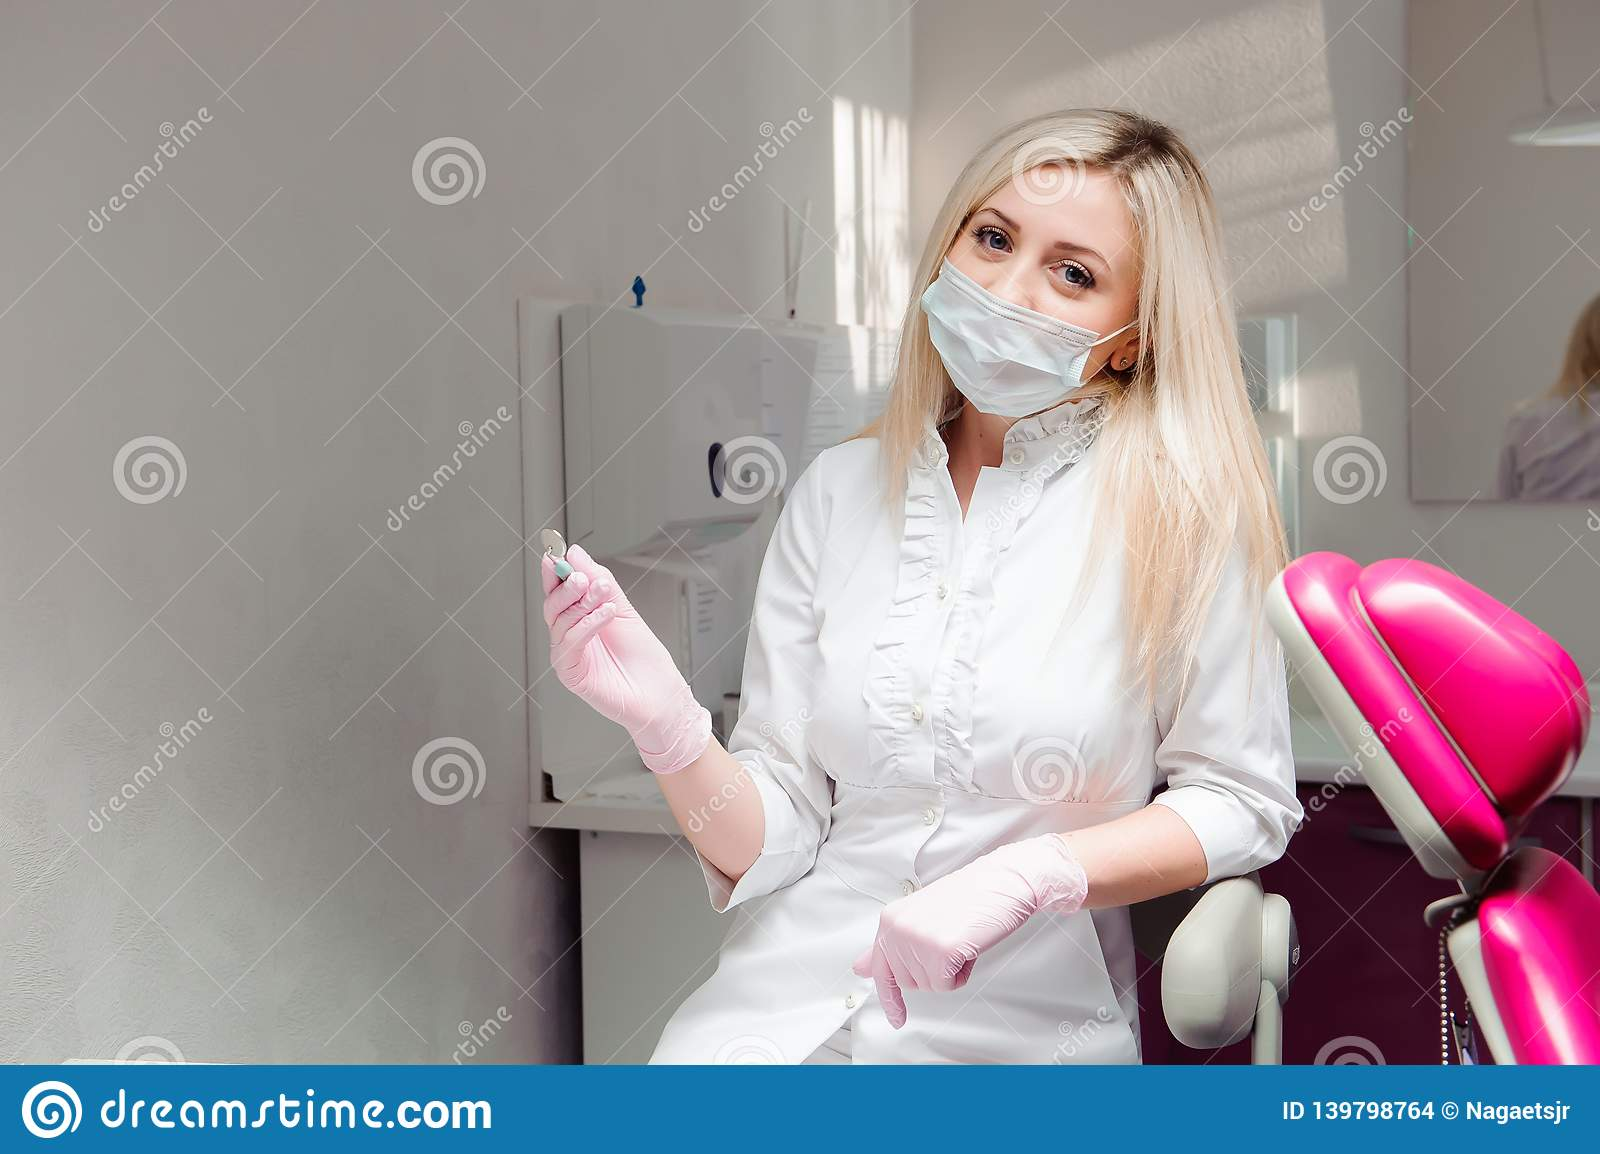mask: (911, 253, 1116, 419)
